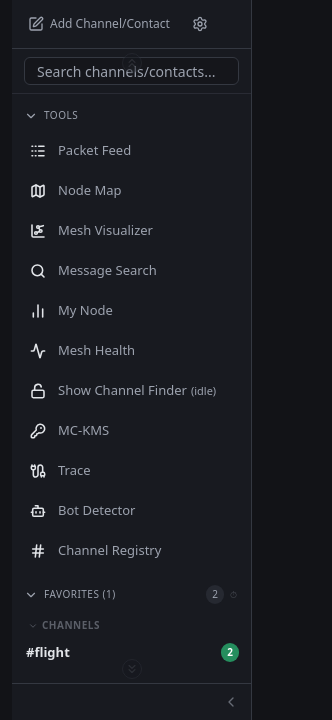
Scenario: Sidebar section summaries › persists collapsed section state across unmount and remount
Click the button "Tools".
click(132, 116)  # box [24, 108, 239, 123]
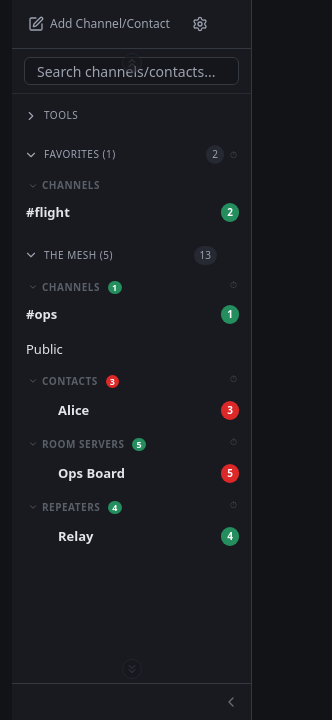
Click the button "Channels 1".
click(120, 285)  # box [12, 274, 228, 296]
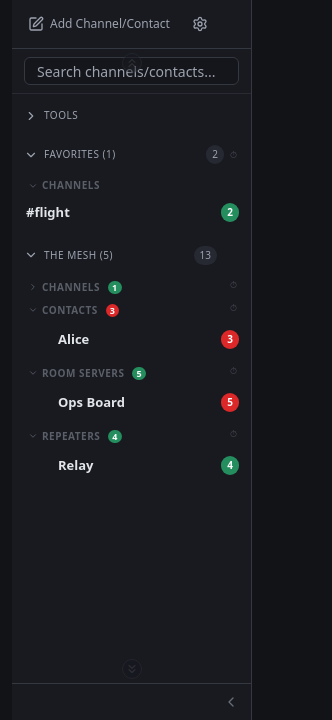
Click the button "Contacts 3".
click(120, 308)  # box [12, 296, 228, 320]
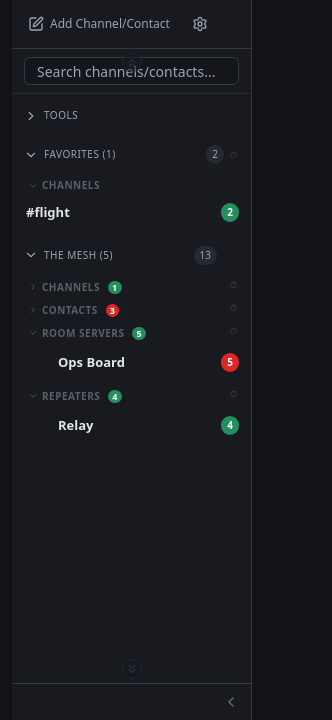
Click the button "Room Servers 5".
click(120, 331)  # box [12, 320, 228, 342]
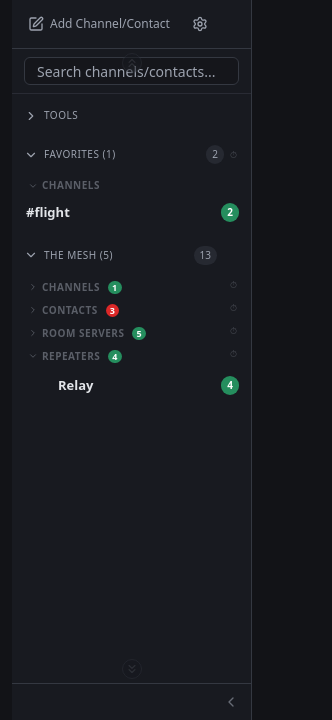
Expected: the button "Packet Feed" is not shown
Expected: the button "Ops Board" is gone
